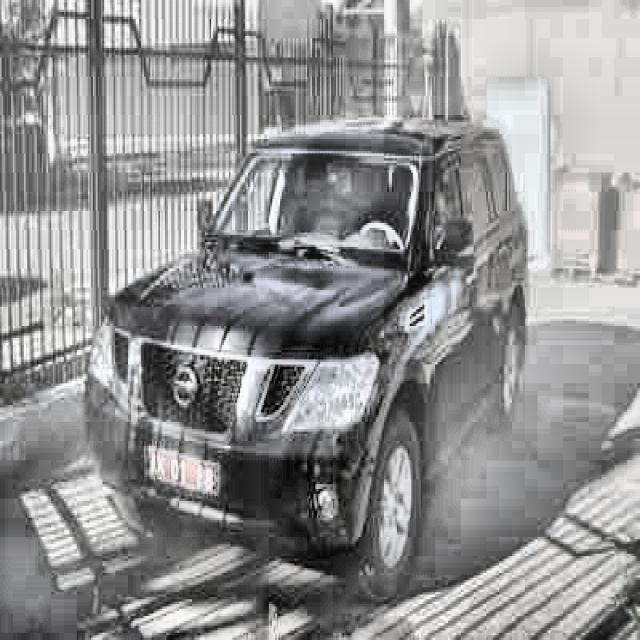license_plate: (146, 448, 220, 500)
